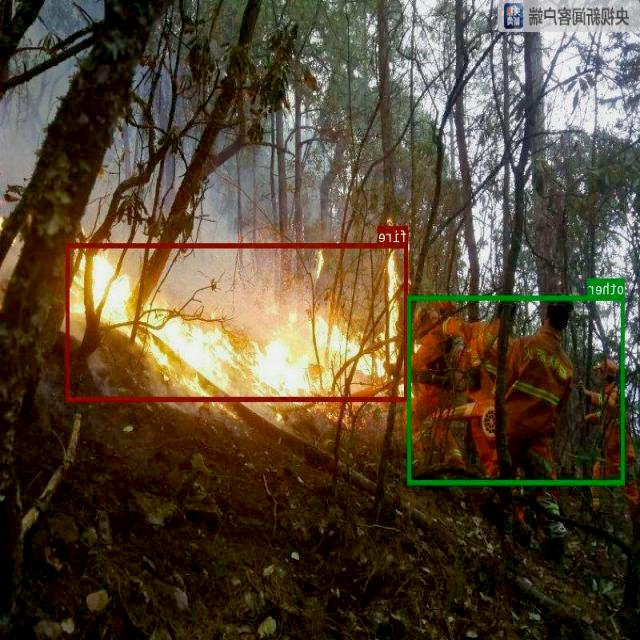fire: (66, 243, 408, 401)
